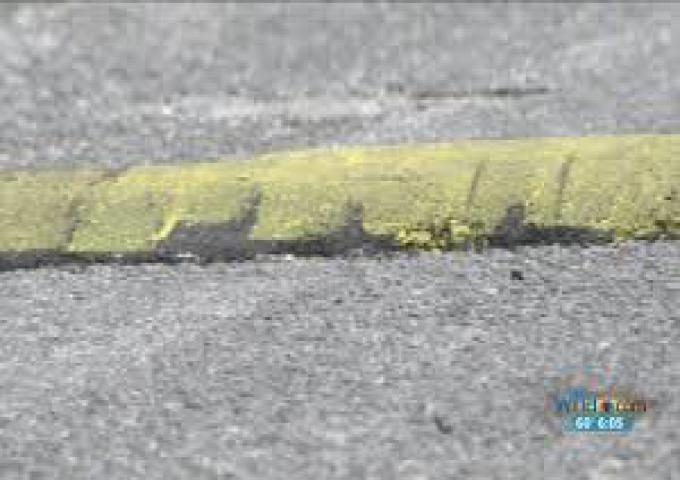speedbreaker: (0, 122, 679, 266)
